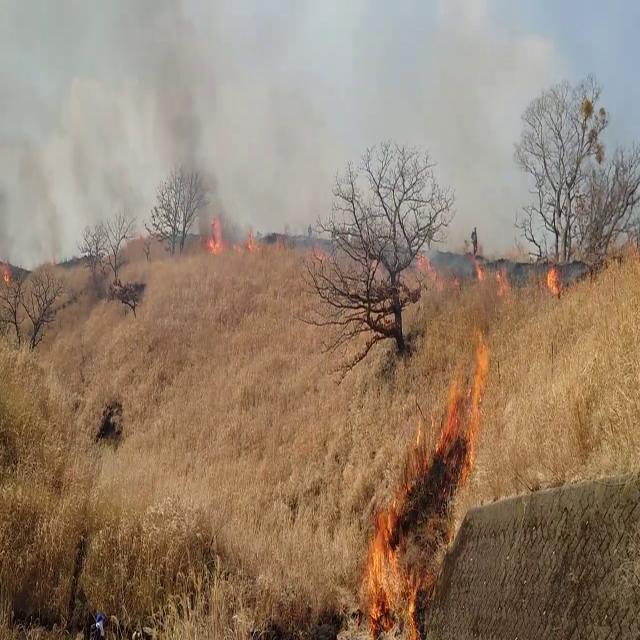Fire: (350, 300, 524, 640), (204, 212, 228, 258), (542, 262, 564, 294)
Smoke: (0, 3, 259, 264)
